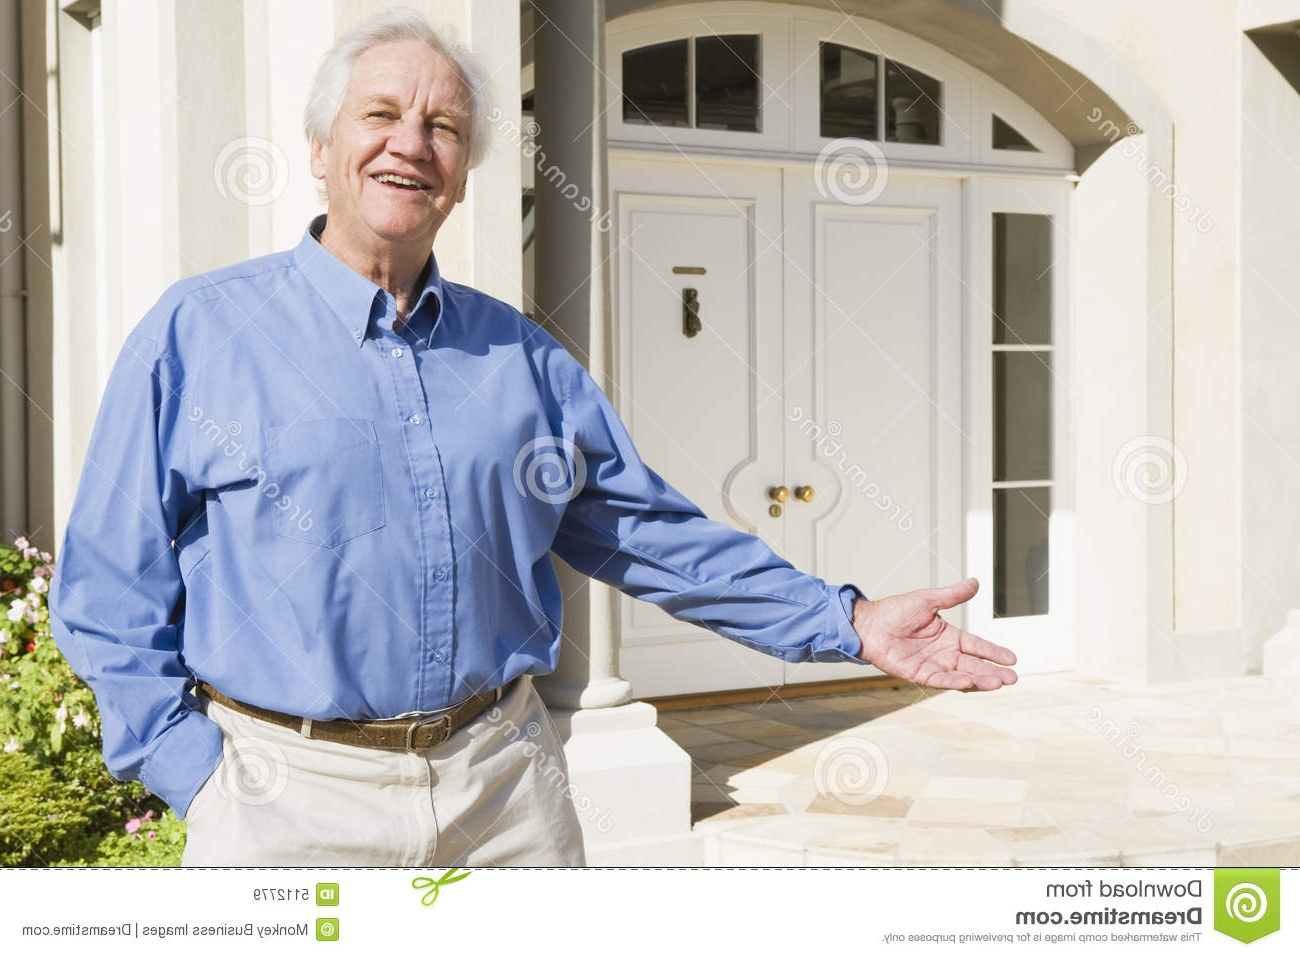not_fallen: (43, 9, 1062, 860)
